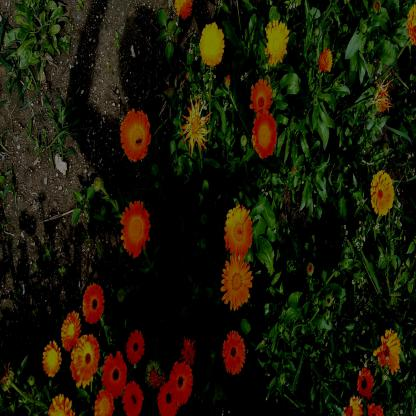marigold: (120, 200, 149, 258), (221, 260, 253, 310), (122, 108, 150, 160), (225, 207, 252, 257), (102, 352, 128, 400), (75, 336, 99, 384), (372, 170, 394, 217), (200, 24, 224, 65), (253, 114, 277, 155), (264, 22, 288, 62), (170, 363, 192, 403), (381, 331, 400, 371), (84, 283, 102, 324), (122, 381, 143, 416), (251, 80, 272, 113), (158, 382, 177, 416), (63, 314, 80, 350), (125, 332, 144, 363), (44, 342, 61, 376), (96, 394, 113, 416)
